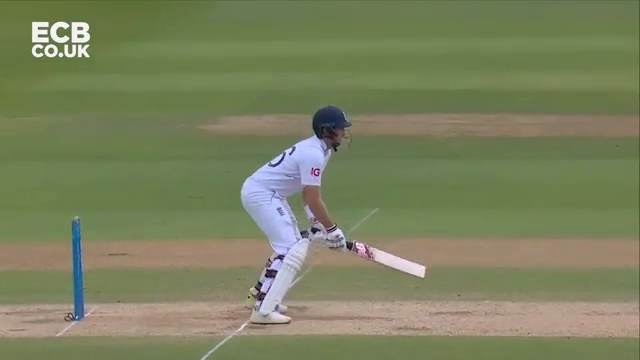batsman: (240, 106, 369, 327)
